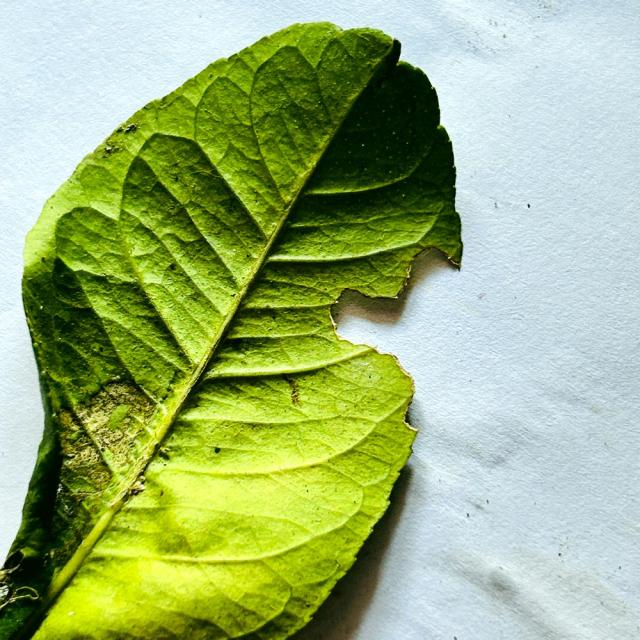Deficiency Leaf: (13, 296, 148, 602), (331, 251, 467, 384)
Lemon: (2, 22, 460, 639)
